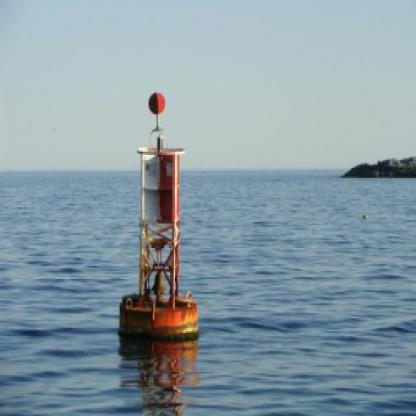buoy: (112, 78, 206, 349)
